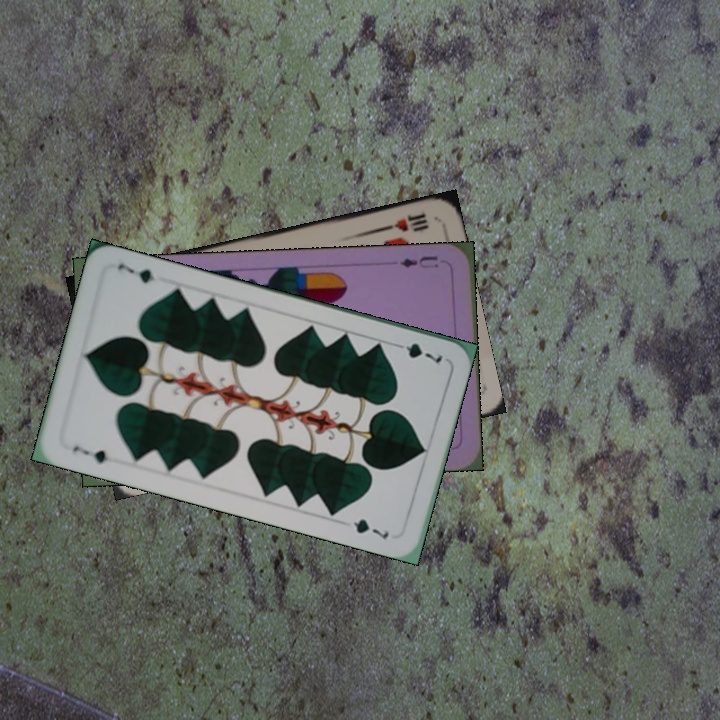EU: (396, 252, 441, 271)
G7: (389, 338, 445, 366), (69, 441, 118, 466)
H10: (377, 209, 431, 234)
